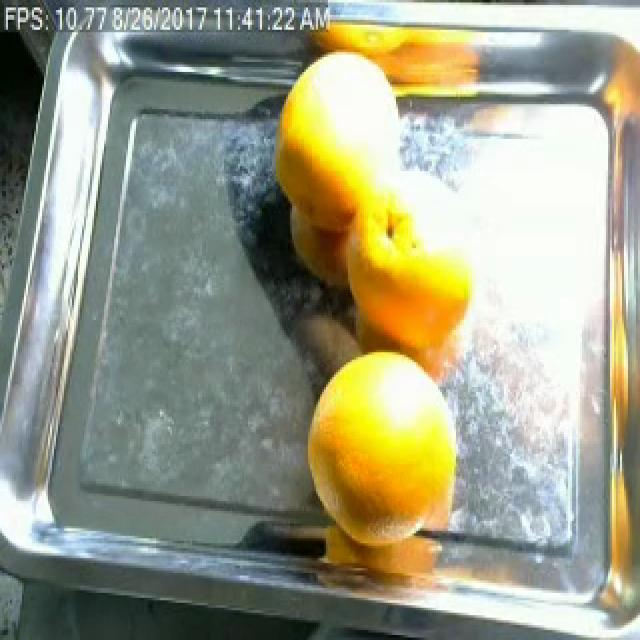Fruit: (334, 12, 498, 119)
